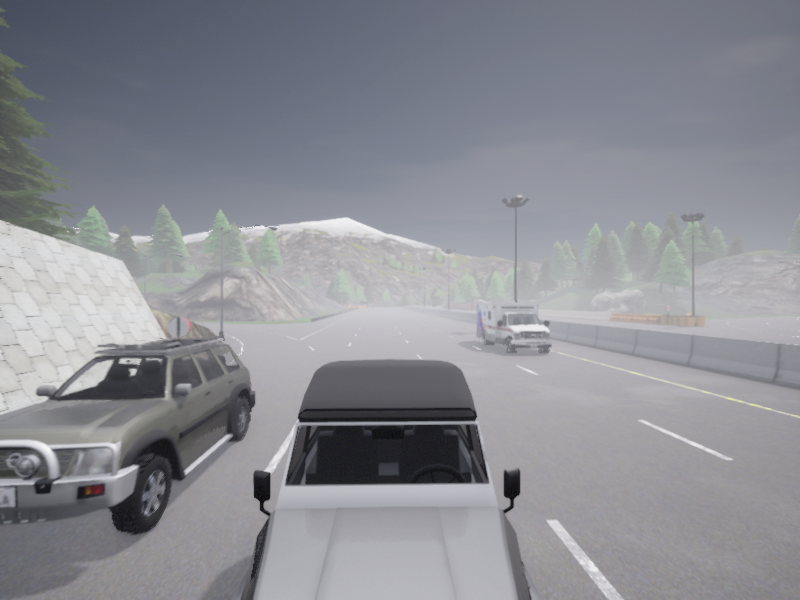vehicle: (232, 359, 541, 599), (0, 339, 255, 533), (476, 303, 551, 353), (433, 304, 436, 306)
